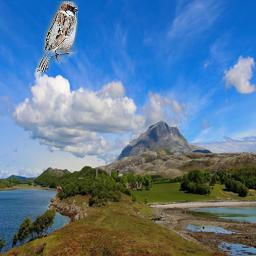Sparrow: (37, 1, 78, 72)
